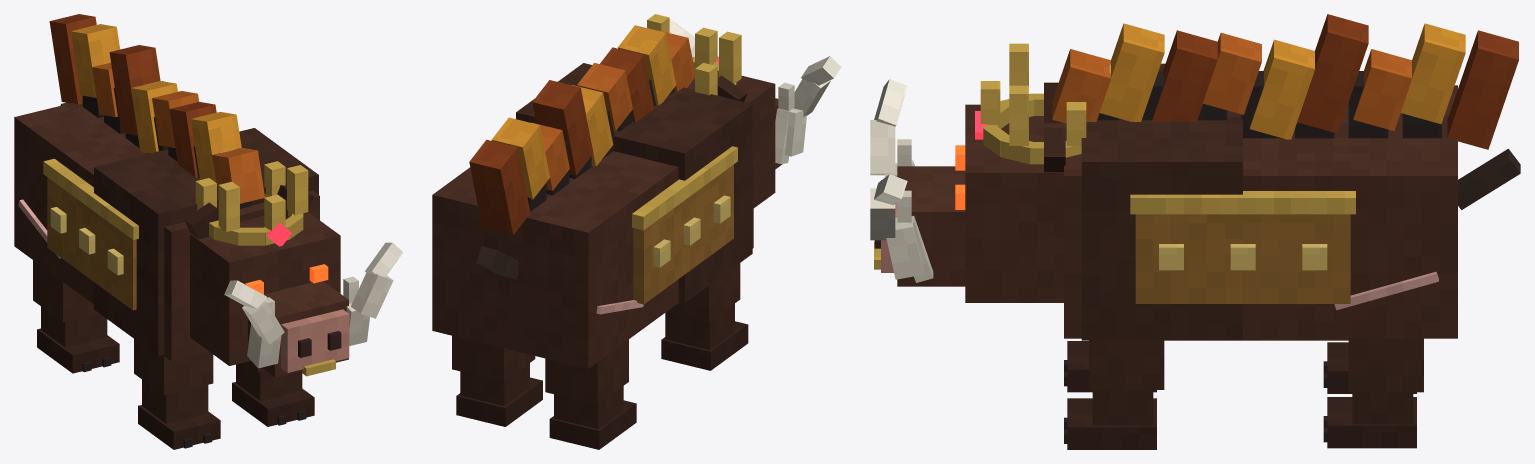
File: roi_sanglier.glb
3 renders of one model, left to right at view 1: azimuth 30°, elevation 25°; view 2: azimuth 150°, elevation 25°; view 3: azimuth 270°, elevation 25°, orthographic. The views are drawn at different scales.
Parts seen in each view (by area): view 1: Torso, Head, ArmR, LegR, ArmL; view 2: Torso, Head, LegR, LegL, ArmR; view 3: Torso, Head, LegL, ArmL, LegR, ArmR.
Boxes of the visible parts, box(x1,y1,x2,y2) form: Torso: box(14, 14, 319, 361); Head: box(184, 149, 403, 377); ArmR: box(134, 339, 220, 449); LegR: box(33, 260, 119, 373); ArmL: box(232, 361, 314, 426); Torso: box(432, 25, 753, 368); Head: box(647, 14, 841, 207); LegR: box(545, 339, 636, 449); LegL: box(452, 335, 542, 426); ArmR: box(661, 263, 748, 370); Torso: box(1052, 14, 1520, 340); Head: box(870, 43, 1110, 302); LegL: box(1323, 338, 1423, 448); ArmL: box(1064, 340, 1164, 449); LegR: box(1323, 342, 1416, 393); ArmR: box(1064, 341, 1156, 392).
Size of the model in its own units: 0.73 by 1.18 by 1.81.
Materials: 24 (24 with a texture image).
